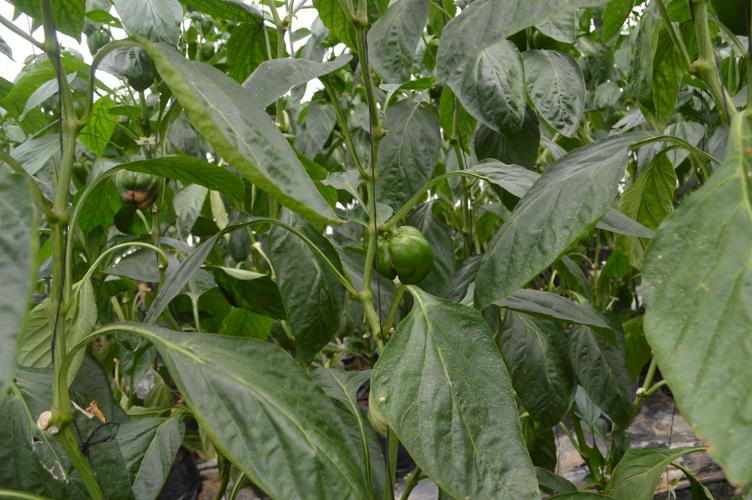BellPepper: (365, 218, 448, 288), (111, 153, 159, 218)
